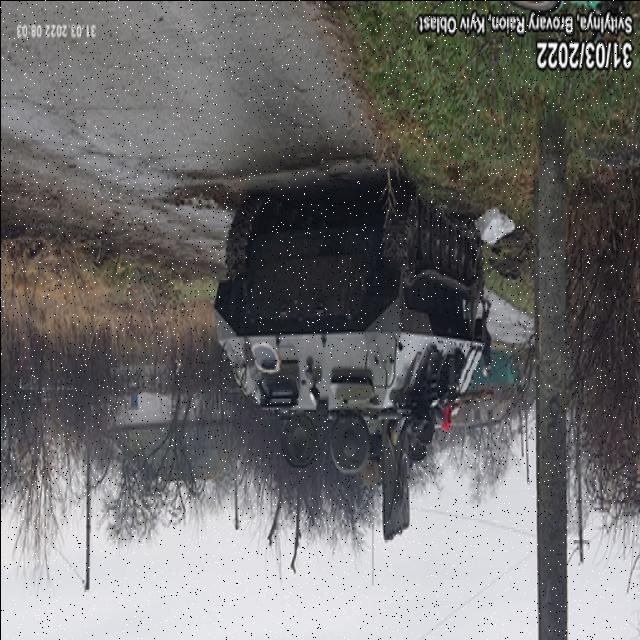APC-IFV: (213, 185, 492, 542)
